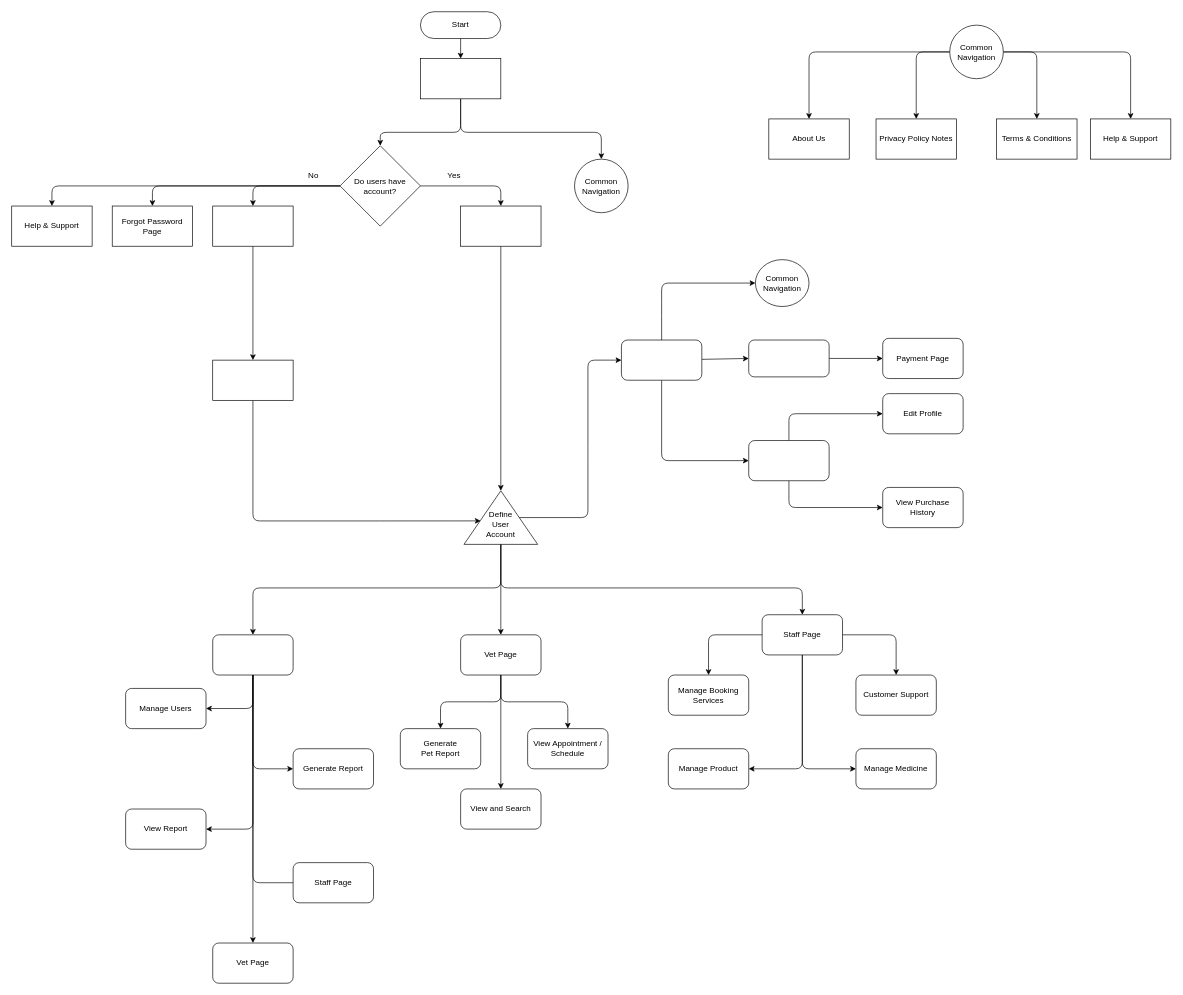
The diagram is 1183 pixels wide and 995 high, and some of its shapes have lost their labels. Each missing label, with the centre of its shape:
"Admin Page" belongs at point 252,654.
"Customer Page" belongs at point 661,359.
"Customer Register Page" belongs at point 252,379.
"Index Page" belongs at point 460,78.
"Login Page" belongs at point 500,225.
"Profile Page" belongs at point 788,460.
"Register Page" belongs at point 252,225.
"Service Page" belongs at point 788,358.
